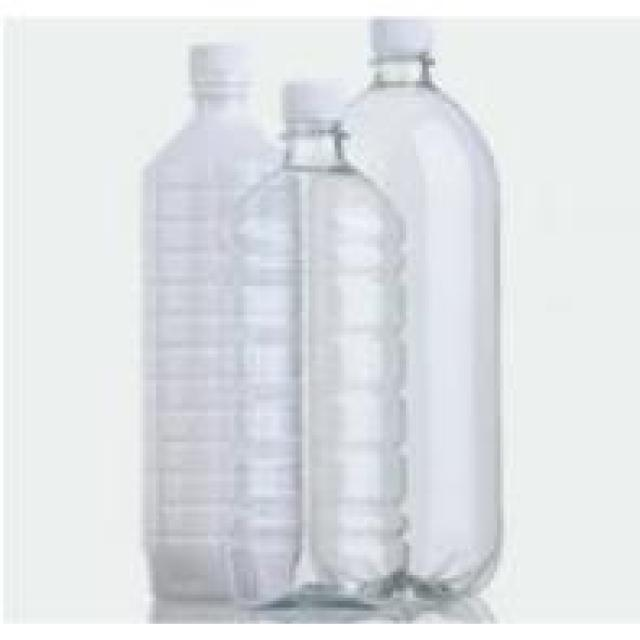bottle: (308, 4, 504, 618), (224, 74, 416, 620), (130, 42, 309, 611)
